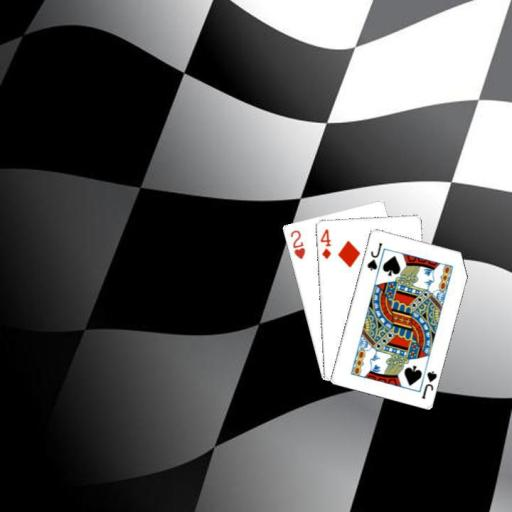2H: (287, 227, 307, 260)
4D: (317, 226, 332, 261)
JS: (364, 240, 384, 272), (418, 368, 438, 400)
